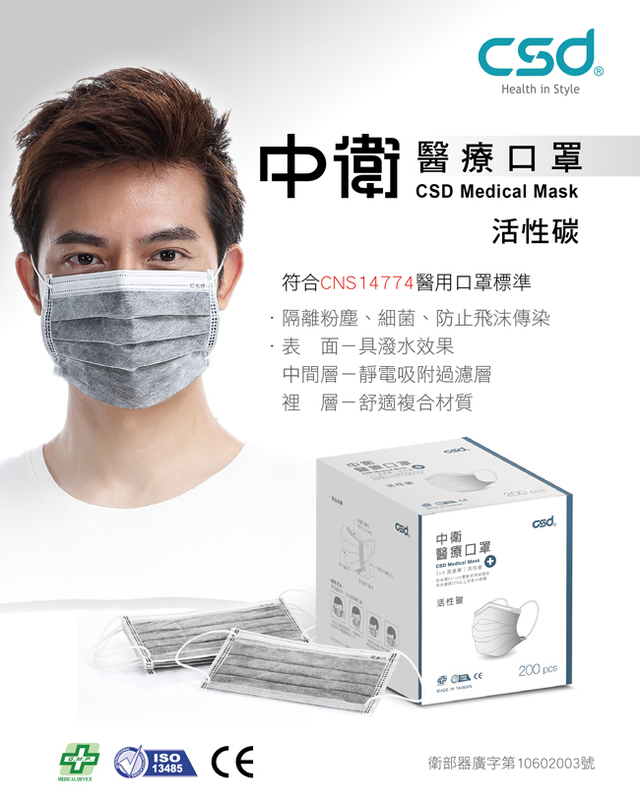mask: (47, 282, 219, 388)
